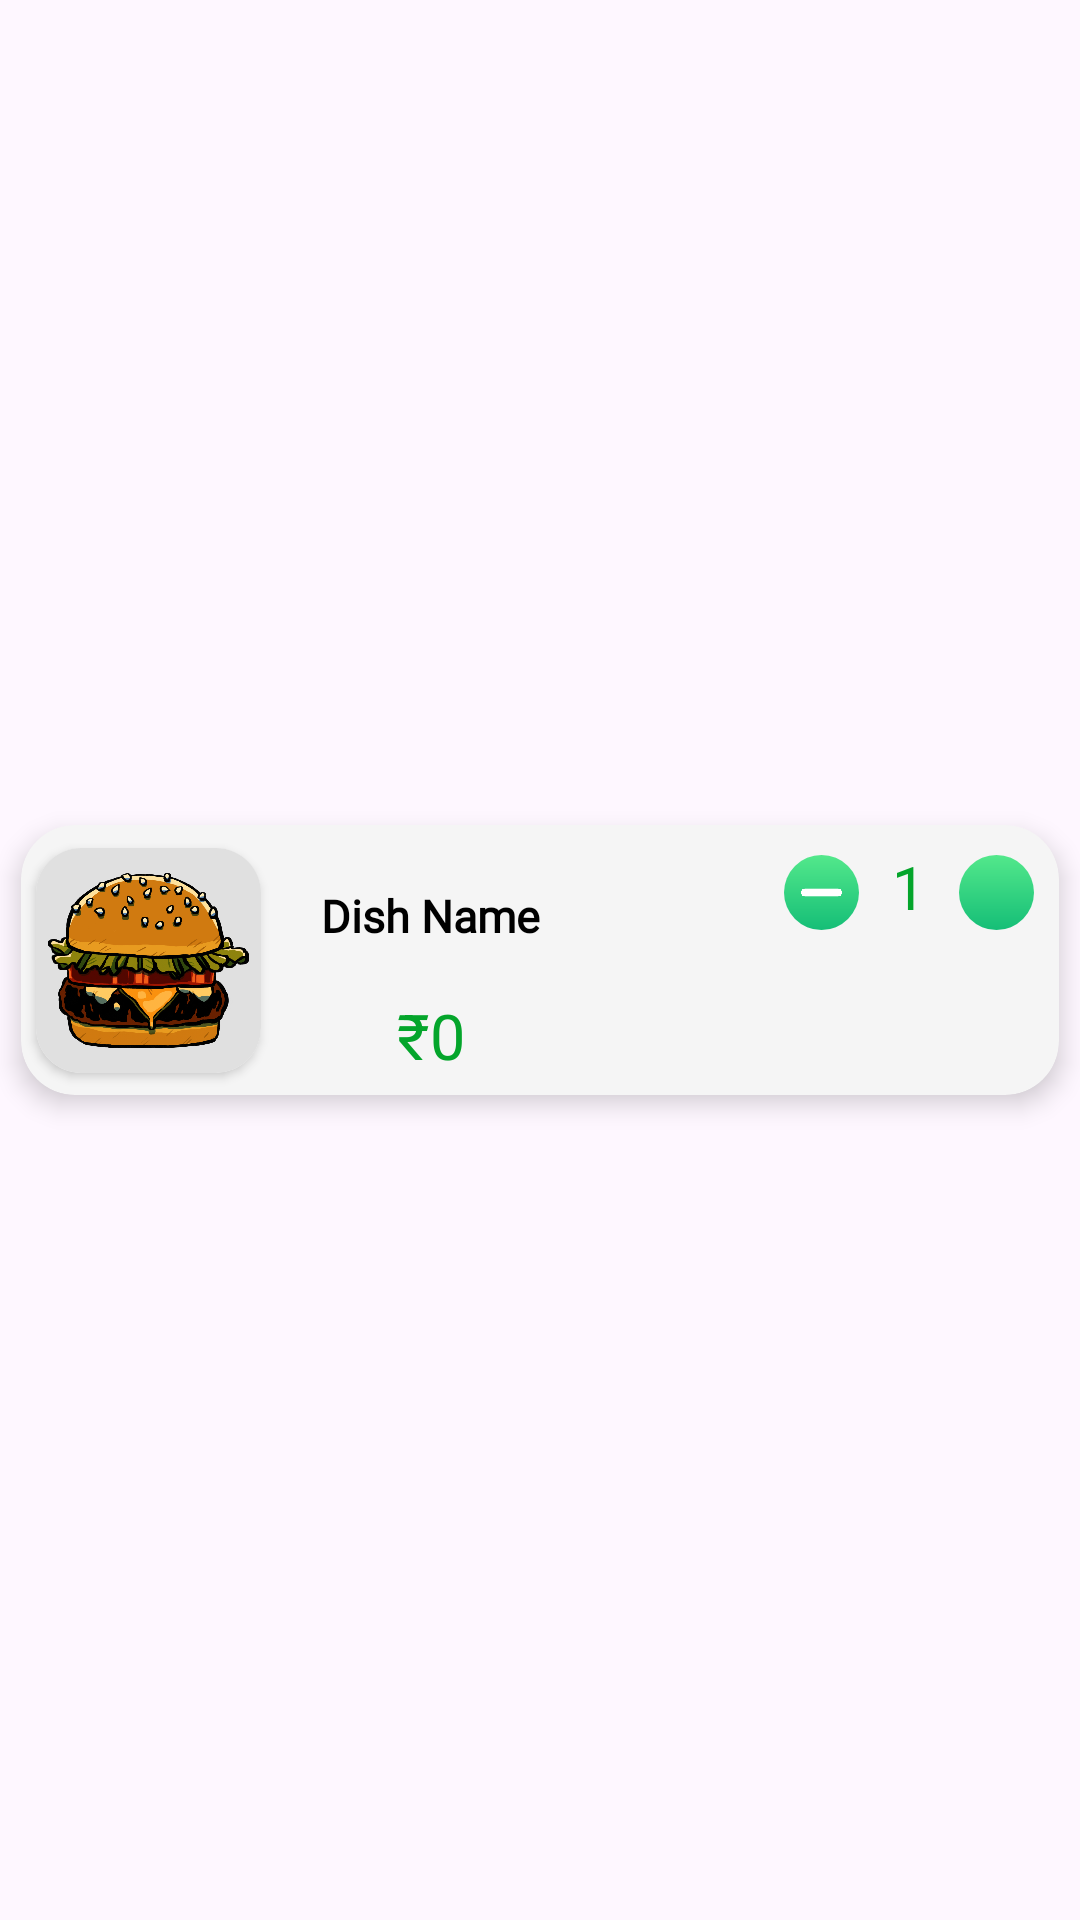

Screen size 1080 x 1920. Icon name, then its box in pixels as (x1, y1, x2, y2):
burger: (37, 873, 249, 1073)
minus: (784, 855, 859, 930)
